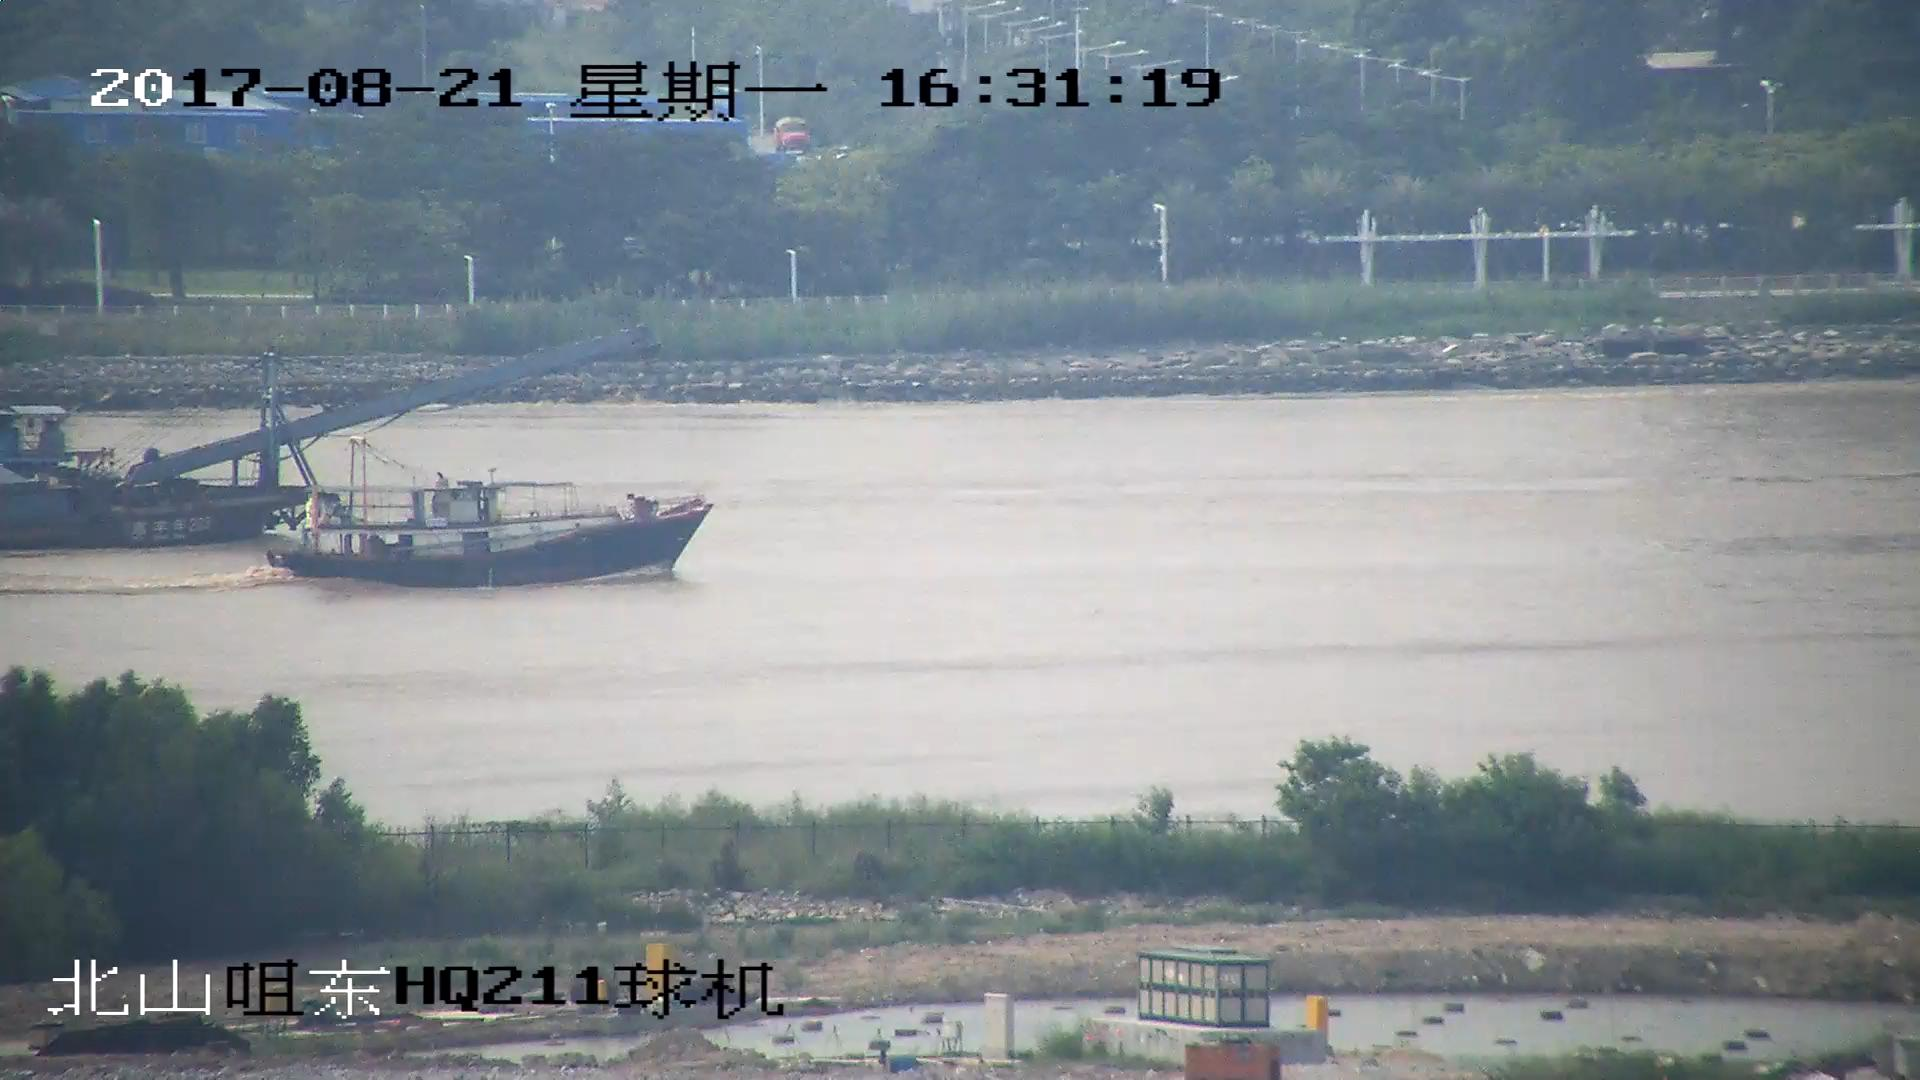fishing boat: (270, 444, 710, 590)
ore carrier: (1, 331, 657, 554)
